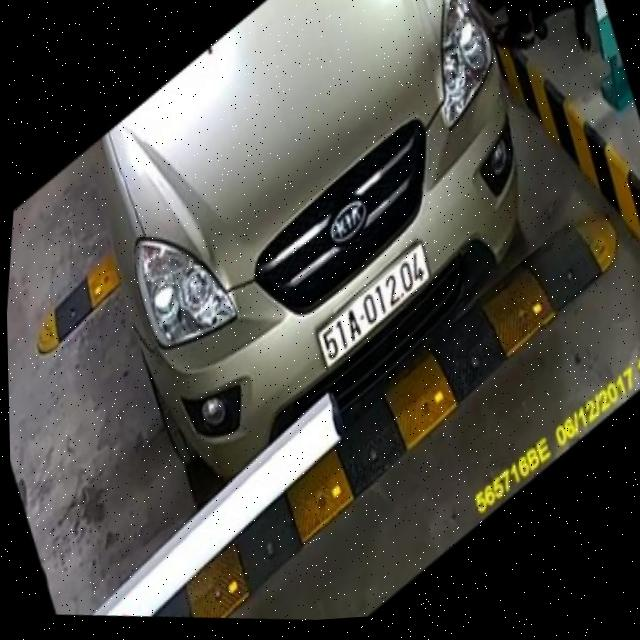car: (61, 0, 557, 521)
plate: (306, 229, 439, 383)
